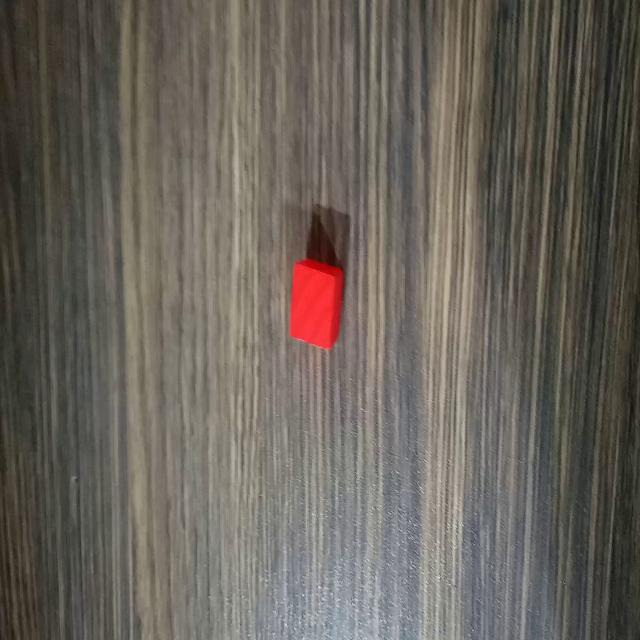cube: (286, 254, 345, 352)
